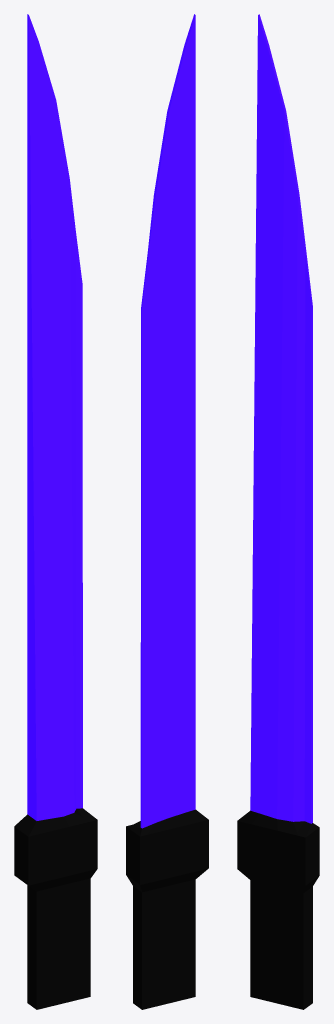
Rendered from bluesword.fbx.
3 renders of one model, left to right at view 1: azimuth 30°, elevation 25°; view 2: azimuth 210°, elevation 25°; view 3: azimuth 330°, elevation 25°, orthographic.
Parts seen in each view (by area): view 1: Cube; view 2: Cube; view 3: Cube.
Boxes of the visible parts, box(x1,y1,x2,y2) form: Cube: box(14, 14, 97, 1009); Cube: box(126, 14, 208, 1009); Cube: box(237, 14, 319, 1009).
Bounding box in the file's own units: 59.69 × 813 × 21.11.
